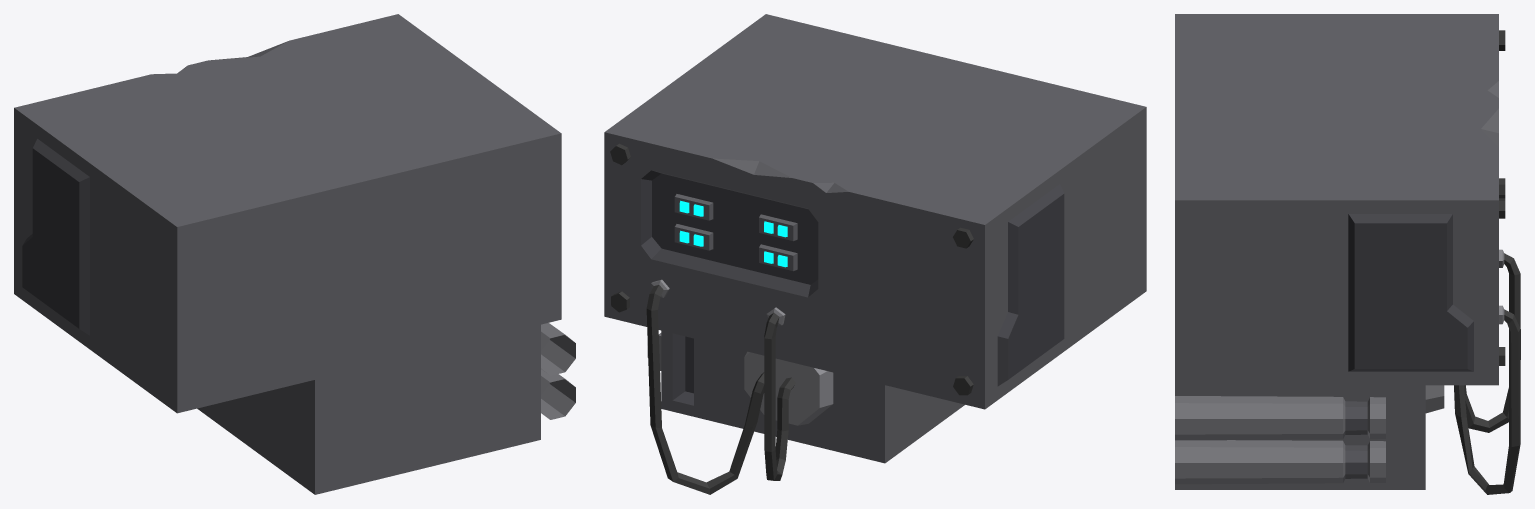
Rendered from SM_Prop_Detail_Machine_01.fbx.
3 renders of one model, left to right at view 1: azimuth 30°, elevation 25°; view 2: azimuth 150°, elevation 25°; view 3: azimuth 270°, elevation 25°, orthographic.
Parts seen in each view (by area): view 1: SM_Prop_Detail_Machine_01_LOD0; view 2: SM_Prop_Detail_Machine_01_LOD0; view 3: SM_Prop_Detail_Machine_01_LOD0.
Boxes of the visible parts, box(x1,y1,x2,y2) form: SM_Prop_Detail_Machine_01_LOD0: box(14, 14, 575, 494); SM_Prop_Detail_Machine_01_LOD0: box(604, 14, 1146, 494); SM_Prop_Detail_Machine_01_LOD0: box(1175, 14, 1520, 494).
Size of the model in its own units: 119 by 161 by 130.
Materials: 1 (1 with a texture image).
